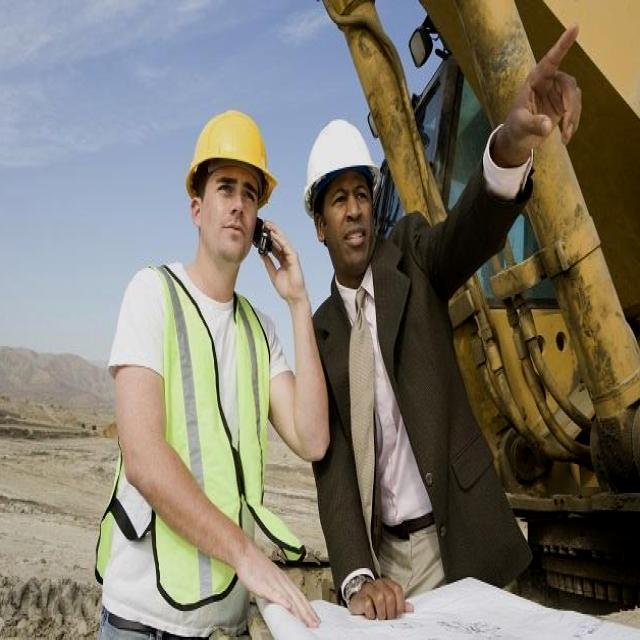face_nomask: (198, 168, 265, 264), (326, 178, 371, 282)
hand_noglove: (496, 12, 591, 182), (236, 546, 313, 628), (341, 573, 418, 626), (262, 218, 304, 306)
head_helmet: (180, 110, 280, 205), (304, 118, 376, 216)
person: (98, 110, 286, 640), (320, 103, 419, 577)
vest: (96, 297, 265, 611)
